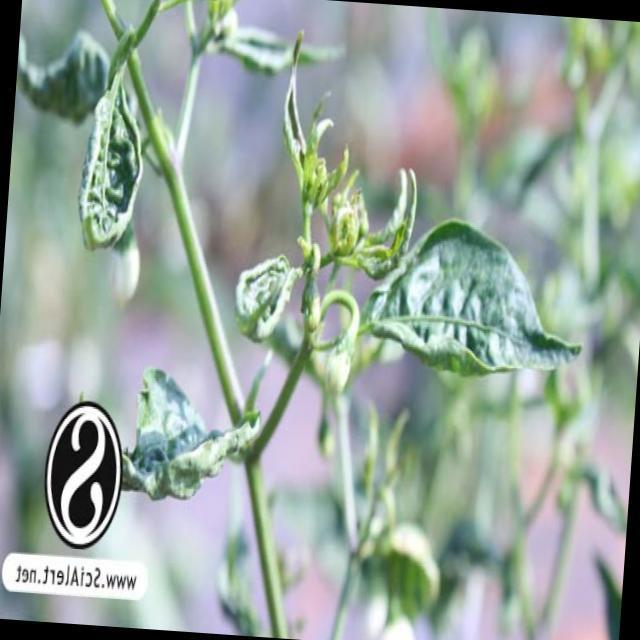Yellow Curl Virus: (358, 214, 586, 390), (117, 362, 262, 511), (74, 59, 150, 270), (218, 247, 296, 349)
